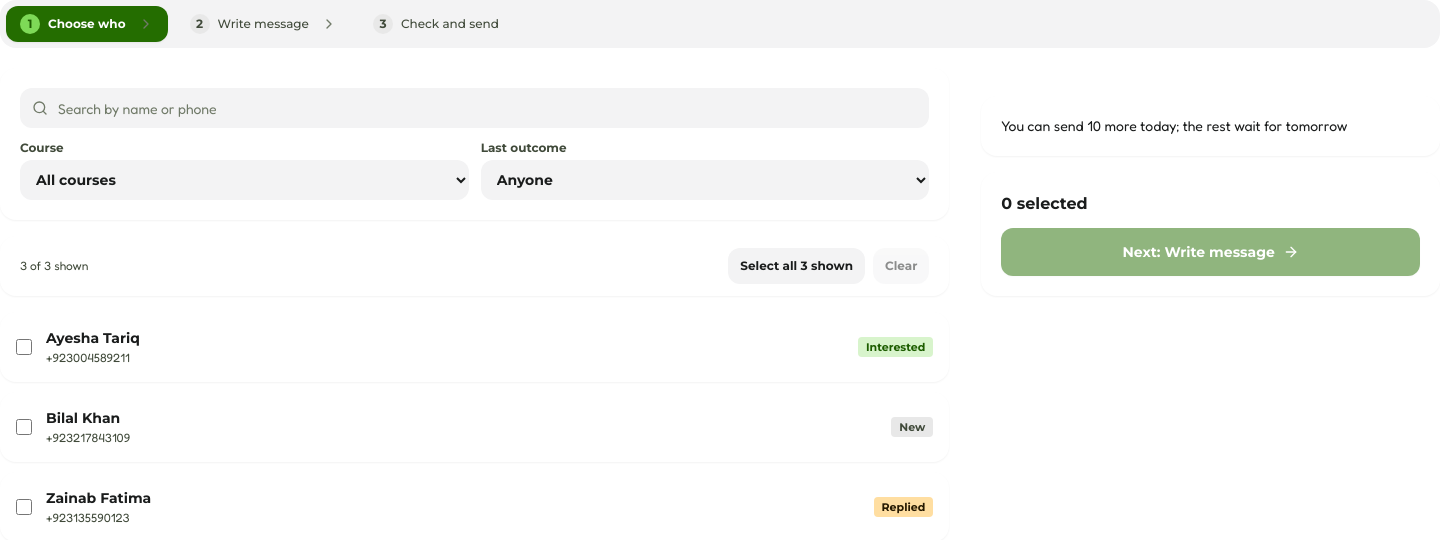
Test: CampaignWizard step 1 › search narrows the rows
Type "bilal" into the search field.
click(488, 108); type("bilal")  # box top-left (58, 88), bottom-right (917, 128)
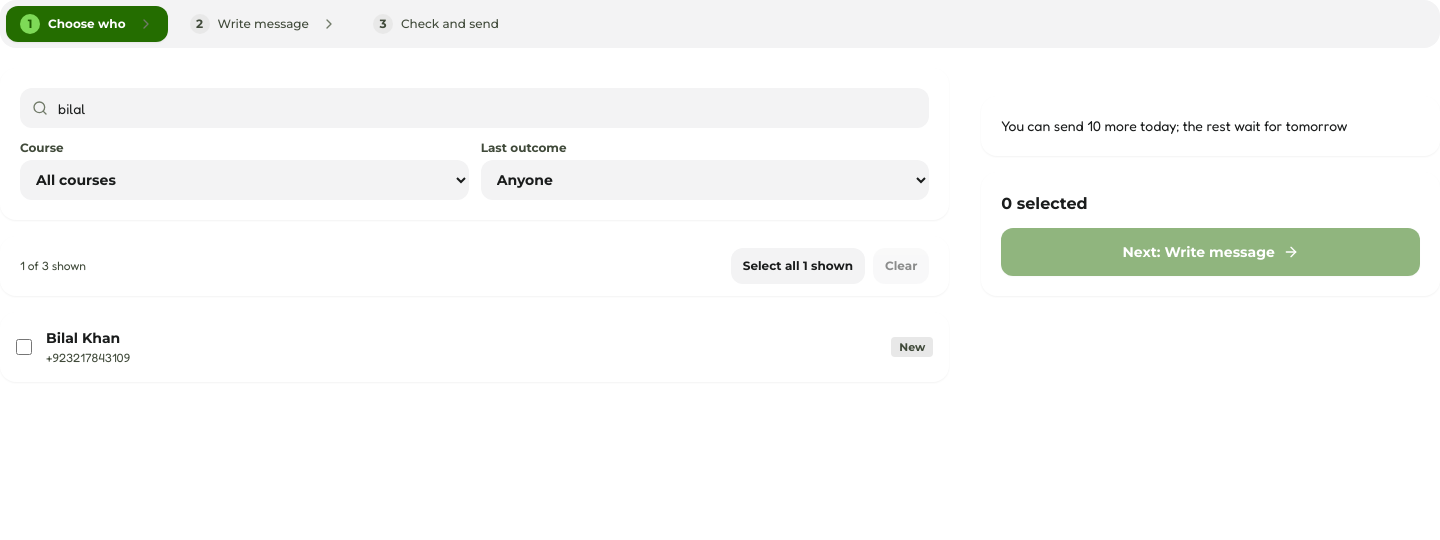
expect the text "Ayesha Tariq" is not shown: met
